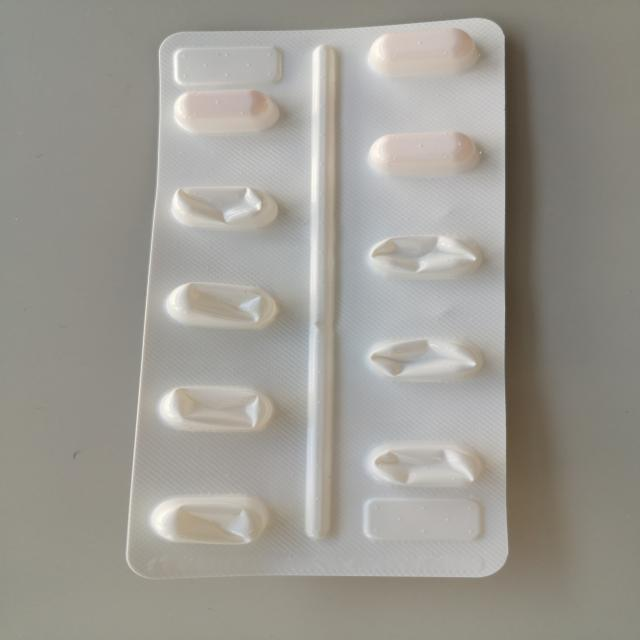Empty: (145, 490, 271, 552), (153, 379, 277, 436), (359, 334, 494, 386), (360, 437, 487, 492), (160, 280, 283, 334), (164, 179, 281, 235), (363, 231, 484, 281)
Pill: (358, 24, 482, 81), (364, 128, 487, 181), (168, 86, 287, 138)
